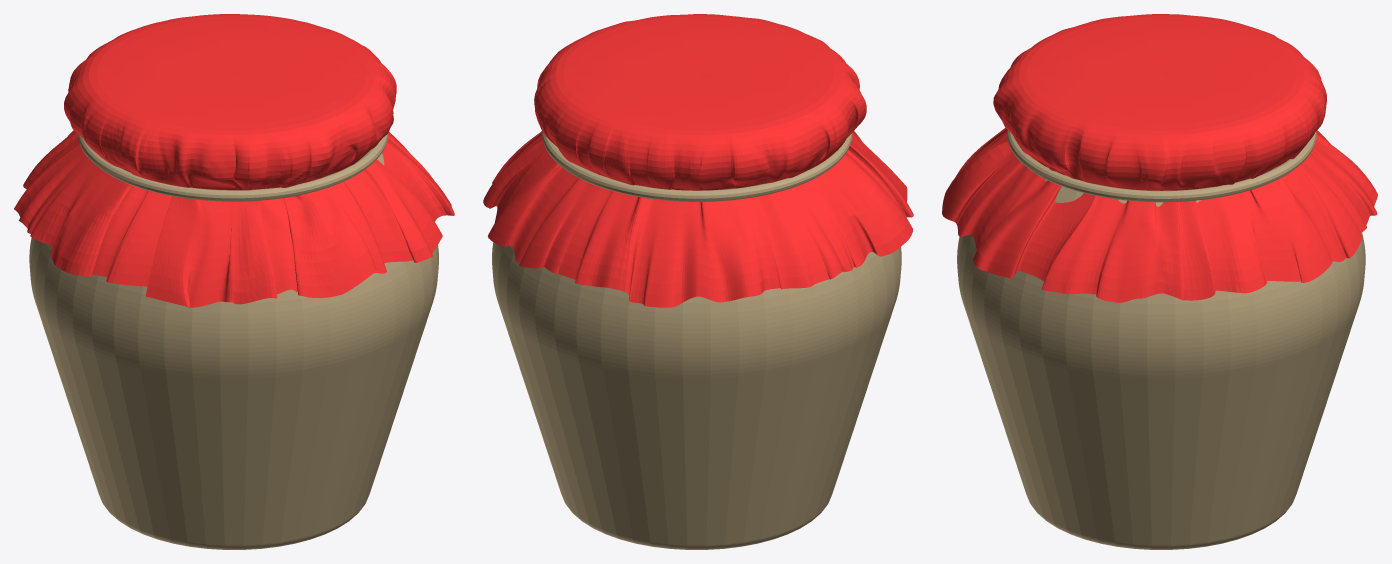
3 views of the same model, side by side, from view 1: azimuth 30°, elevation 25°; view 2: azimuth 150°, elevation 25°; view 3: azimuth 270°, elevation 25° (orthographic).
Parts seen in each view (by area): view 1: Line002; view 2: Line002; view 3: Line002.
Boxes of the visible parts, <box> form: Line002: <box>14,14,454,549</box>; Line002: <box>483,14,913,549</box>; Line002: <box>942,14,1377,549</box>.
Bounding box in the file's own units: 75.51 × 83.19 × 77.36.
